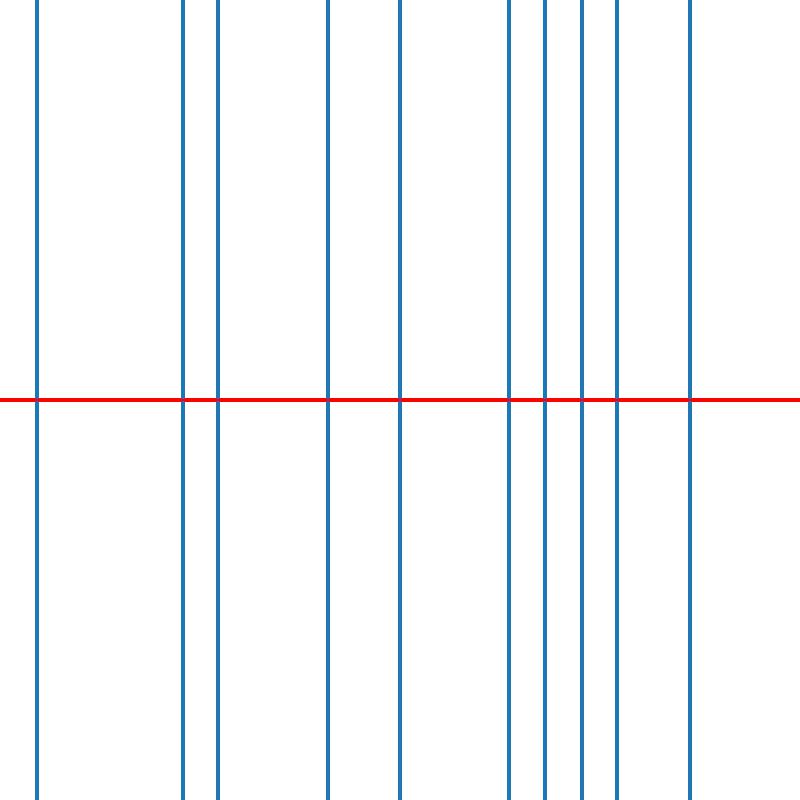root: (541, 396, 549, 404), (32, 396, 40, 404), (323, 396, 330, 404), (578, 396, 585, 404), (505, 396, 512, 404), (214, 396, 221, 404), (396, 396, 403, 404), (614, 396, 621, 404), (178, 396, 185, 404), (687, 396, 694, 404)
